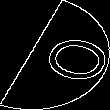O_NW: (11, 25, 99, 85)
